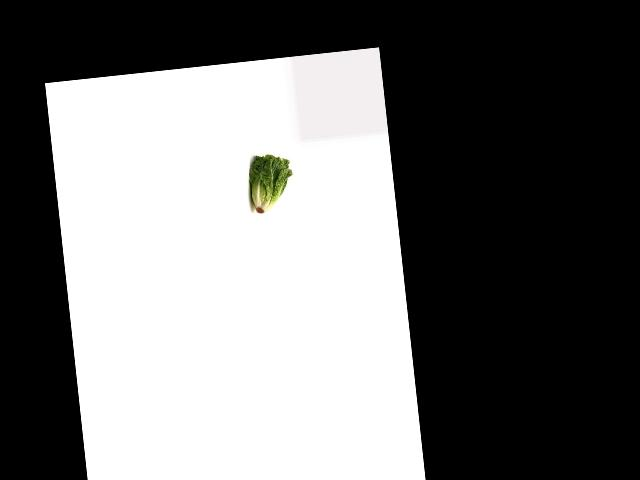lettuce: (245, 152, 296, 217)
